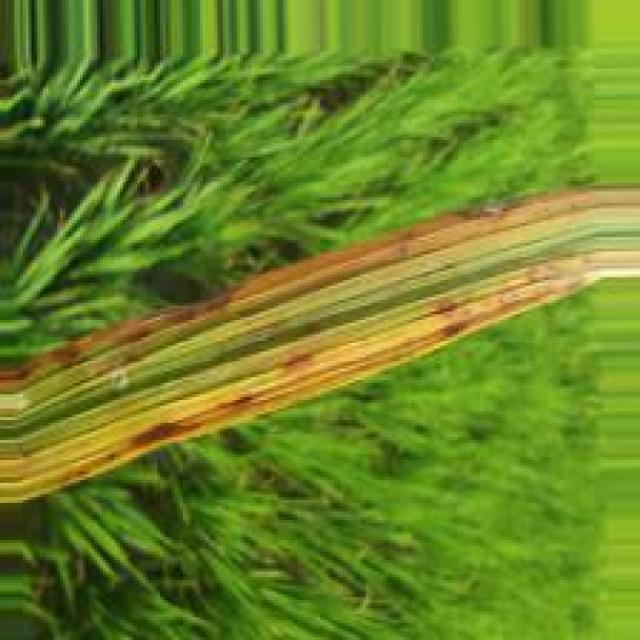Narrow_Brown_Leaf_Spot: (0, 247, 640, 504), (0, 183, 634, 427)
